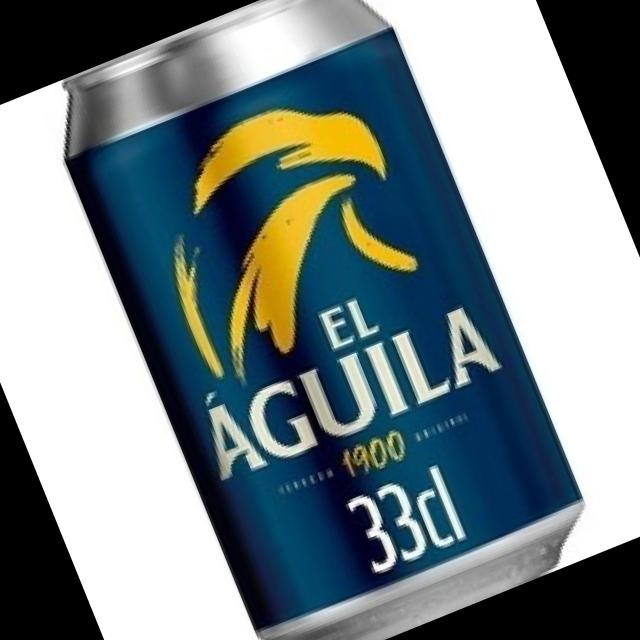Kaleng: (33, 0, 605, 640)
